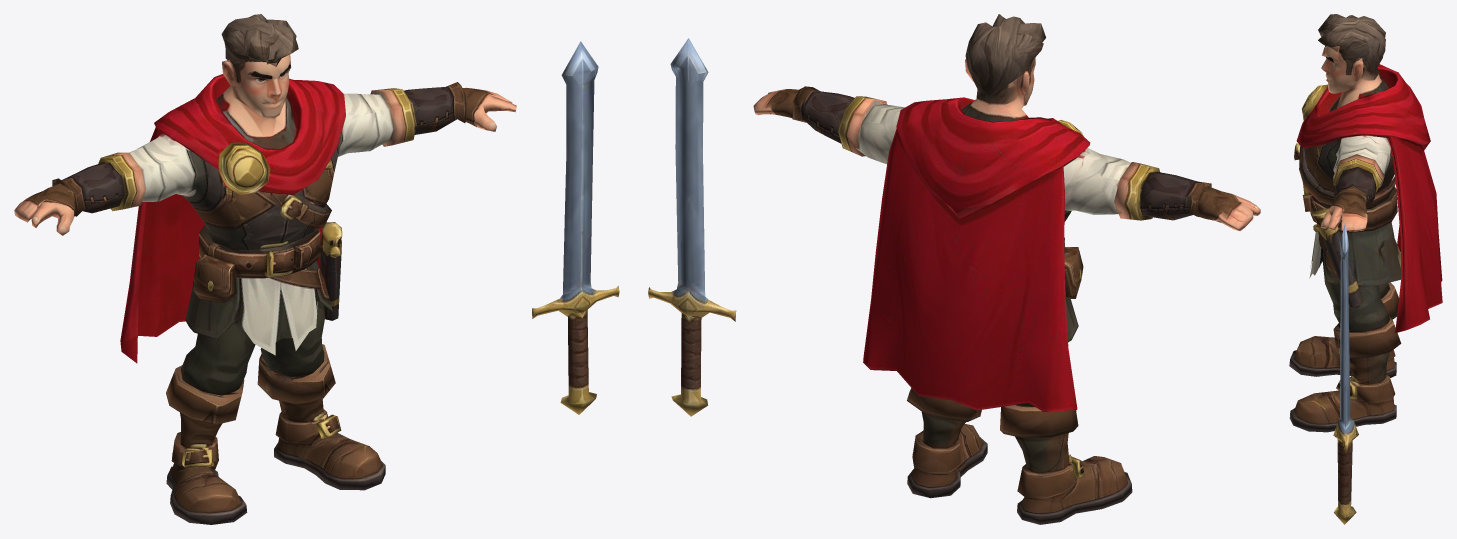
File: npc_trainer.glb
3 renders of one model, left to right at view 1: azimuth 30°, elevation 25°; view 2: azimuth 150°, elevation 25°; view 3: azimuth 270°, elevation 25°, orthographic. The views are drawn at different scales.
Size of the model in its own units: 1 by 0.7572 by 0.2754.
1 material, 1 textured.
